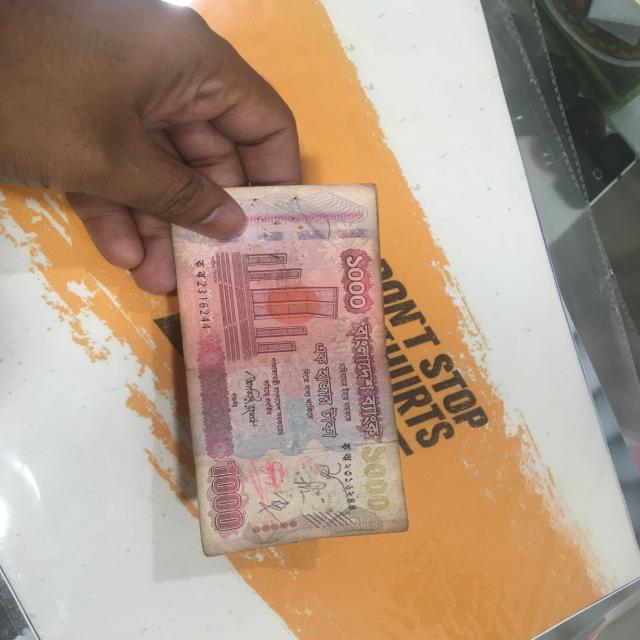Taka: (178, 183, 405, 538)
